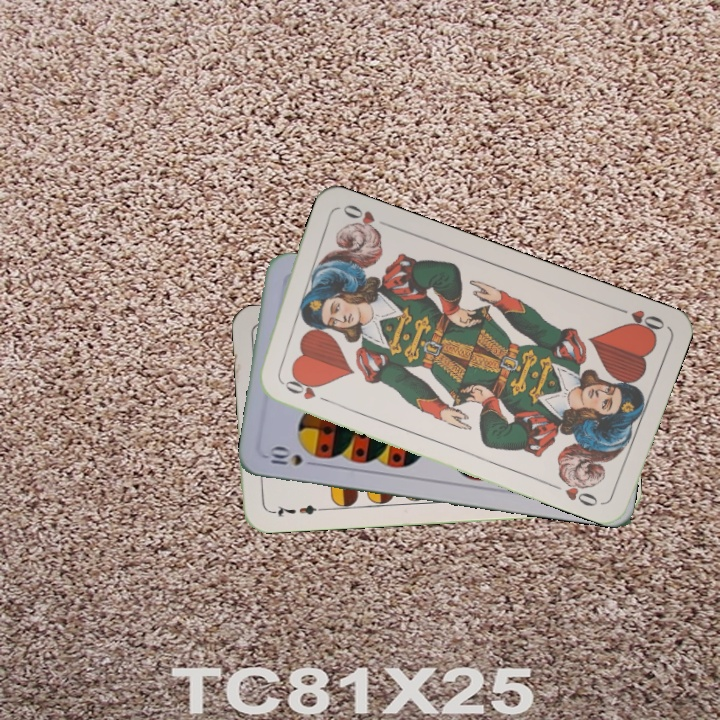E7: (267, 500, 326, 520)
HO: (611, 303, 667, 337), (276, 374, 332, 405)
S10: (262, 444, 321, 469)
